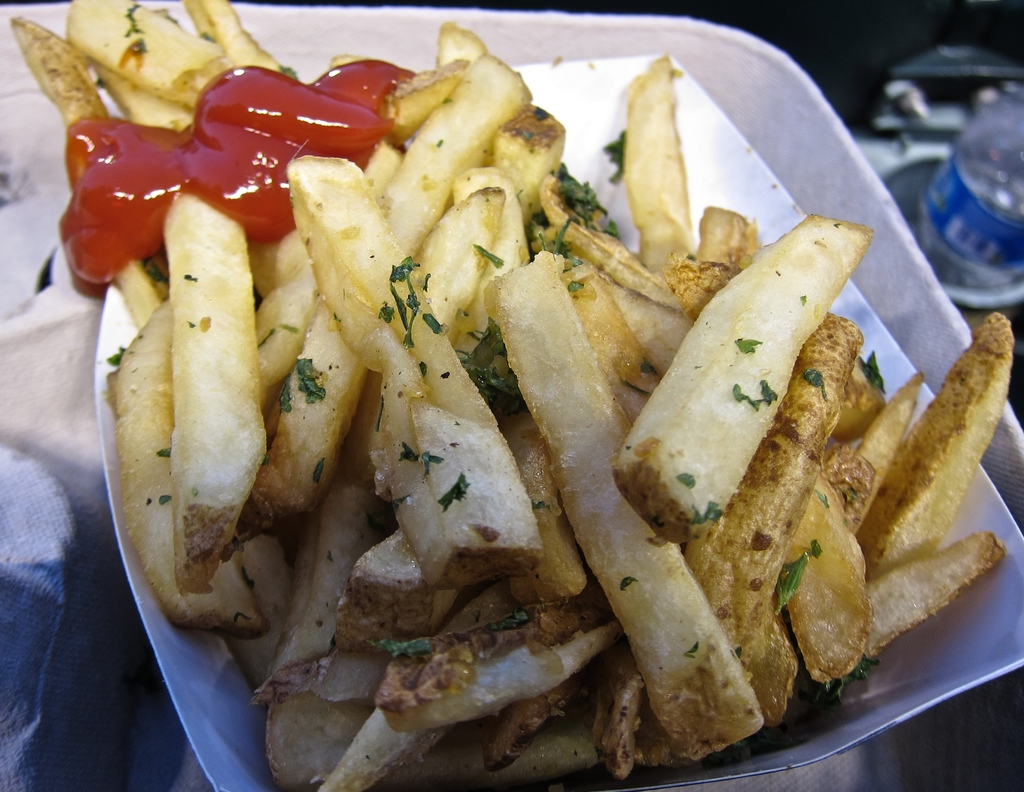French fries: (8, 0, 1019, 792)
